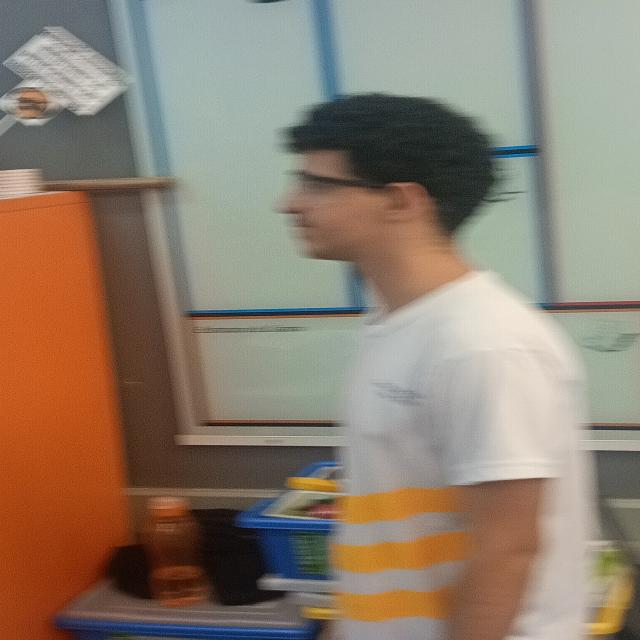oculos-epi: (281, 171, 385, 211)
